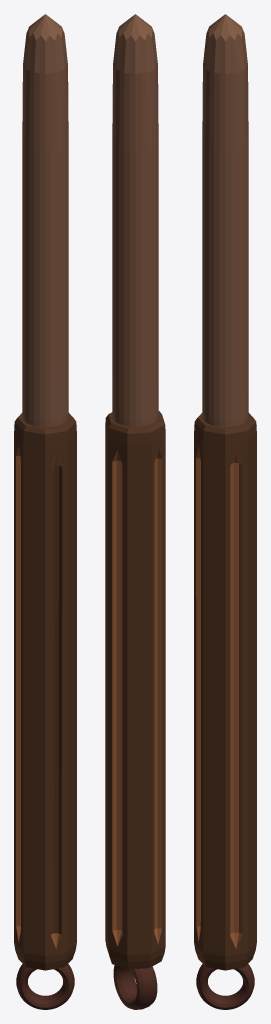
File: Wand 511.glb
The picture shows the model from 3 angles, left to right: view 1: azimuth 90°, elevation 25°; view 2: azimuth 210°, elevation 25°; view 3: azimuth 270°, elevation 25°; orthographic projection.
Parts seen in each view (by area): view 1: GeneratedWand; view 2: GeneratedWand; view 3: GeneratedWand.
Boxes of the visible parts, x1=… form: GeneratedWand: x1=14, y1=14, x2=76, y2=1009; GeneratedWand: x1=105, y1=14, x2=165, y2=1009; GeneratedWand: x1=194, y1=14, x2=256, y2=1009.
Bounding box in the file's own units: 0.0289 × 0.5057 × 0.0289.
